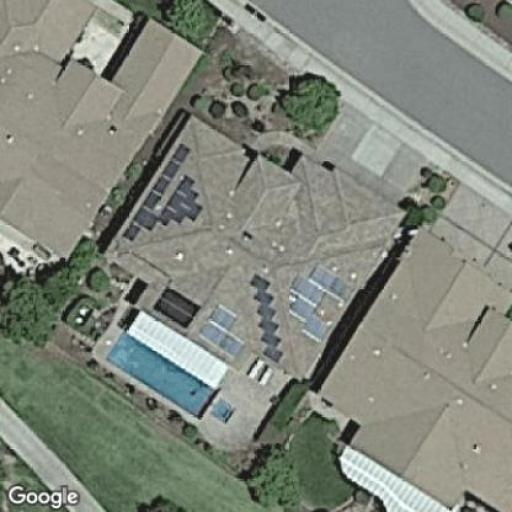solar-panel: (124, 142, 204, 241), (288, 264, 353, 344), (252, 271, 281, 367), (200, 301, 246, 359), (150, 284, 202, 330)
